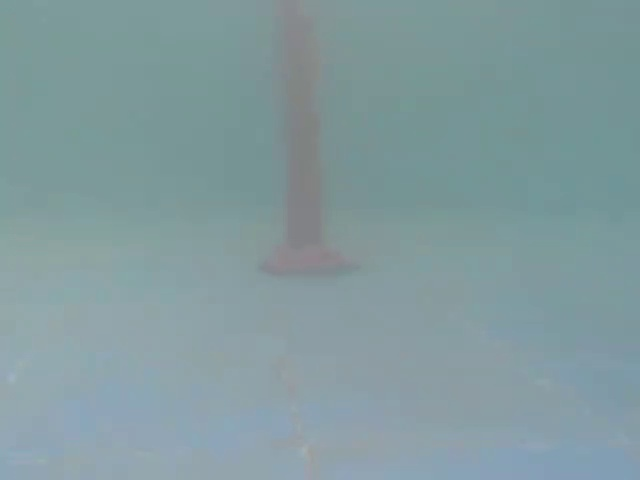flare: (264, 0, 344, 285)
